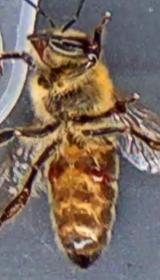varroa_mite: (81, 160, 114, 192)
